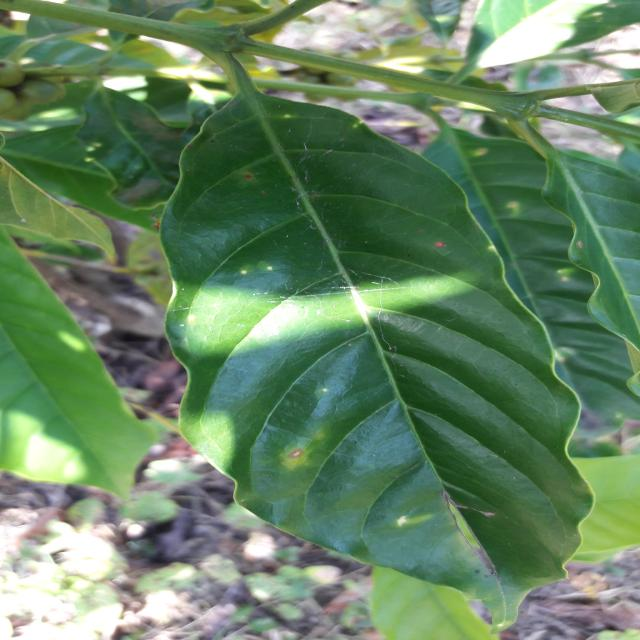Enfermedad-Roya: (159, 78, 601, 640)
